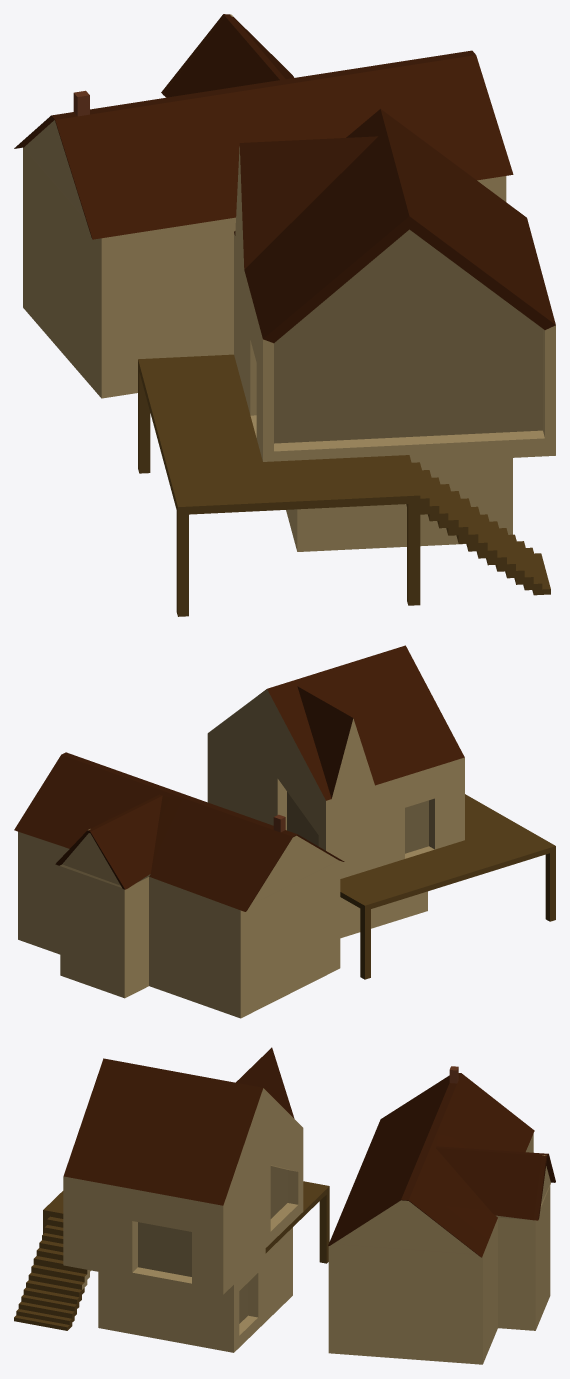
The model's file is pareja_casa2.fbx.
The picture shows the model from 3 angles, top to bottom: view 1: azimuth 30°, elevation 25°; view 2: azimuth 150°, elevation 25°; view 3: azimuth 270°, elevation 25°; orthographic projection. The views are drawn at different scales.
Visible parts, largest first — view 1: casa6, casa2; view 2: casa2, casa6; view 3: casa6, casa2.
Part boxes in pixels (bbox=[...]): casa6: bbox=[138, 109, 555, 616]; casa2: bbox=[14, 14, 513, 398]; casa2: bbox=[14, 752, 344, 1018]; casa6: bbox=[207, 645, 555, 979]; casa6: bbox=[14, 1047, 329, 1352]; casa2: bbox=[328, 1066, 555, 1364].
Size of the model in its own units: 125 by 78.49 by 162.
